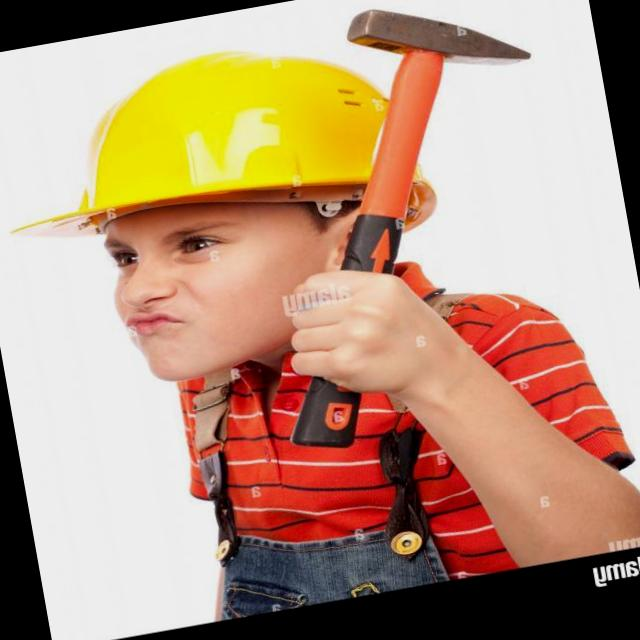hammer: (341, 9, 530, 273), (292, 377, 360, 447)
